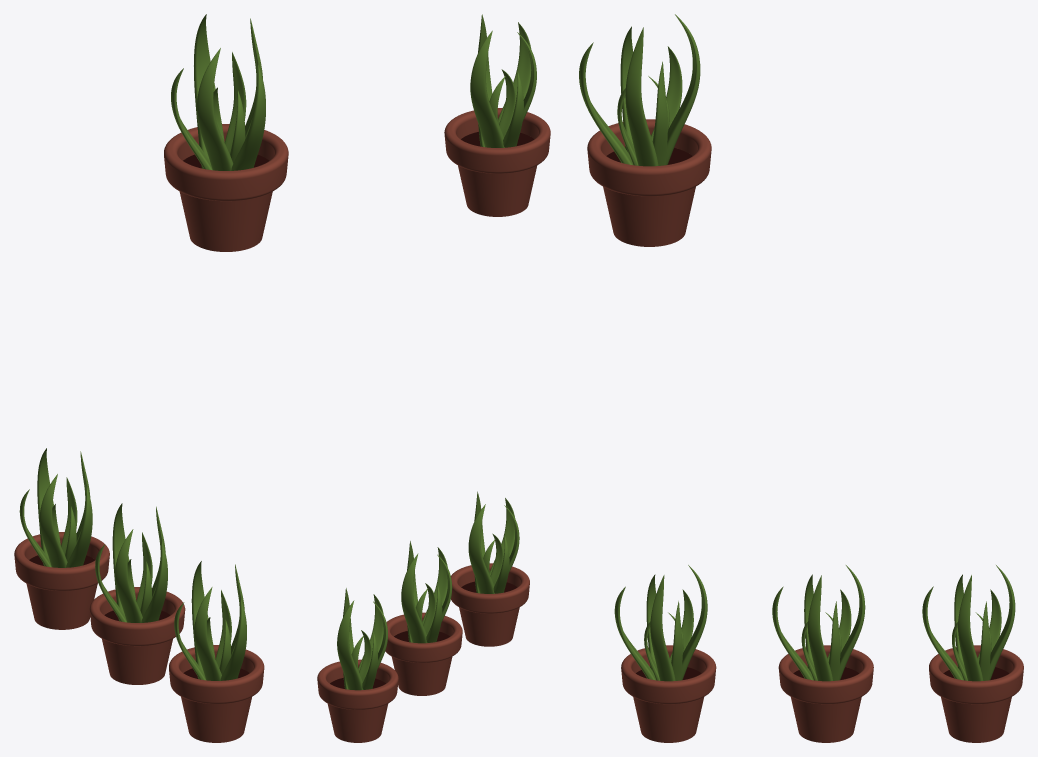
File: Room3-Flower4.glb
The picture shows the model from 3 angles, left to right: view 1: azimuth 30°, elevation 25°; view 2: azimuth 150°, elevation 25°; view 3: azimuth 270°, elevation 25°; orthographic projection. The views are drawn at different scales.
Parts seen in each view (by area): view 1: Dirt.001, Dirt.002, Dirt.003, Dirt.004; view 2: Dirt.001, Dirt.004, Dirt.002, Dirt.003; view 3: Dirt.001, Dirt.004, Dirt.002, Dirt.003.
Part boxes in pixels (x1,y1,x2,y2): Dirt.001: [164, 14, 288, 251]; Dirt.002: [169, 561, 264, 742]; Dirt.003: [89, 503, 185, 684]; Dirt.004: [14, 448, 109, 629]; Dirt.001: [444, 14, 550, 216]; Dirt.004: [317, 588, 398, 742]; Dirt.002: [451, 491, 529, 646]; Dirt.003: [385, 541, 462, 695]; Dirt.001: [579, 14, 711, 246]; Dirt.004: [922, 565, 1023, 742]; Dirt.002: [614, 565, 716, 742]; Dirt.003: [772, 565, 873, 742].
Bounding box in the file's own units: 2.02 × 12.82 × 7.24.
